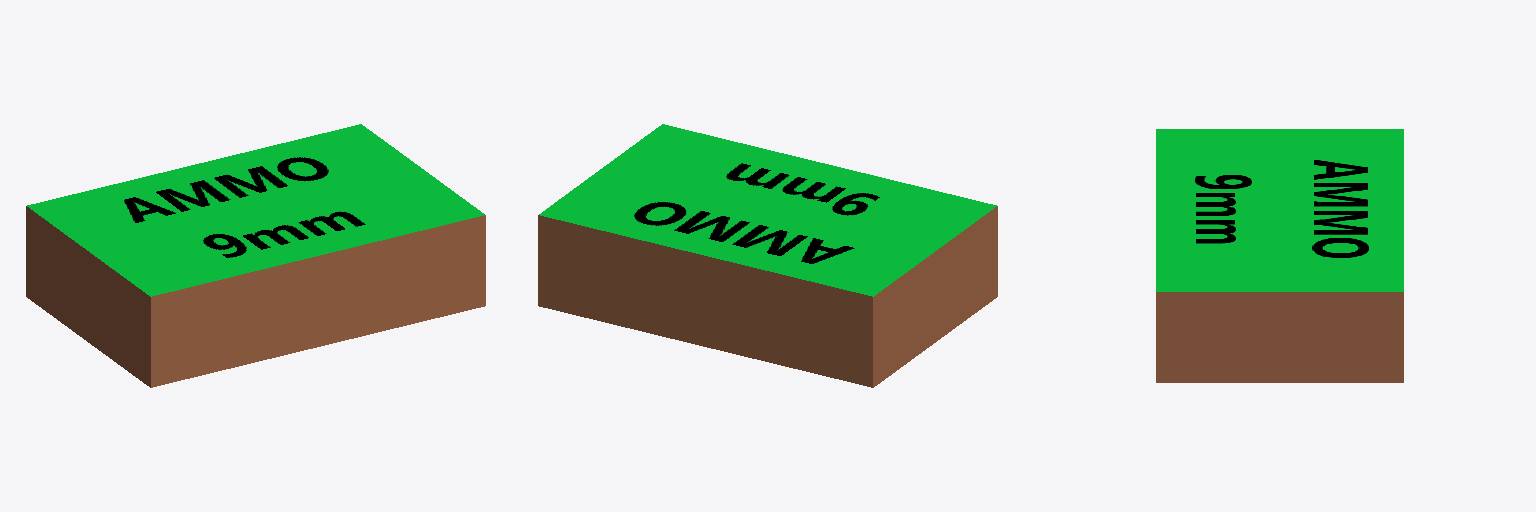
The picture shows the model from 3 angles: view 1: azimuth 30°, elevation 25°; view 2: azimuth 150°, elevation 25°; view 3: azimuth 270°, elevation 25°; orthographic projection.
Parts seen in each view (by area): view 1: pCube1; view 2: pCube1; view 3: pCube1.
Boxes of the visible parts, box(x1,y1,x2,y2) form: pCube1: box(26, 124, 485, 387); pCube1: box(538, 124, 997, 387); pCube1: box(1156, 129, 1403, 382).
Bounding box in the file's own units: 2.6 × 0.6746 × 1.67.
Materials: 1 (1 with a texture image).